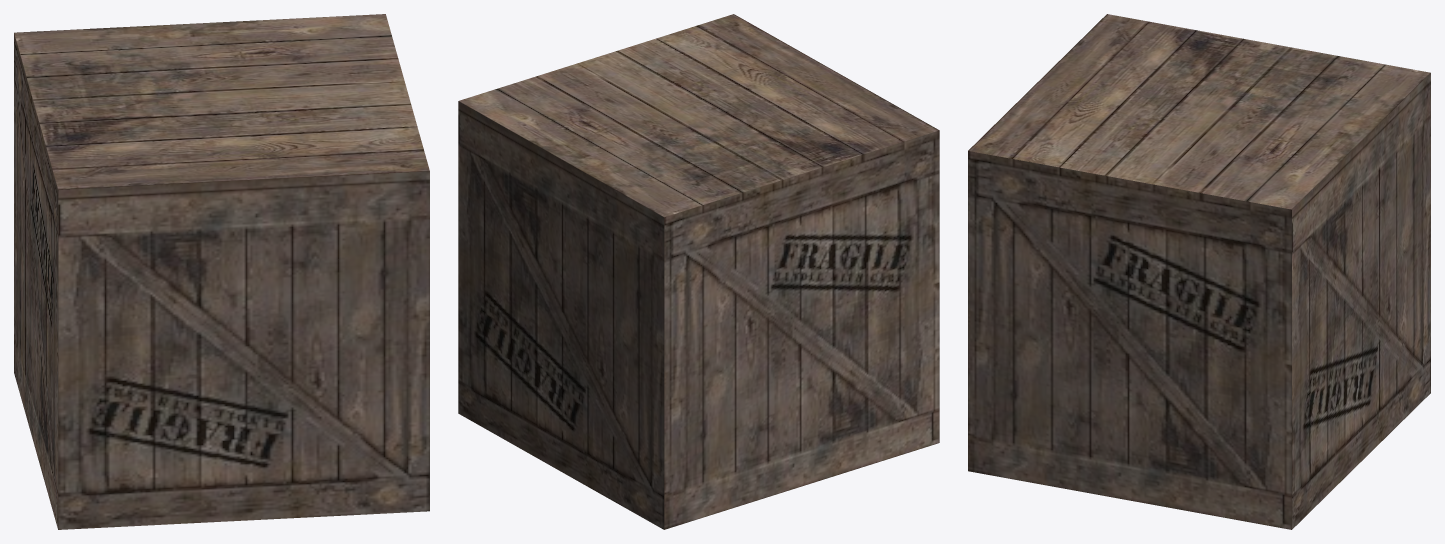
The model's file is Wooden_box_v1_LD1square (1).001.glb.
3 renders of one model, left to right at view 1: azimuth 30°, elevation 25°; view 2: azimuth 150°, elevation 25°; view 3: azimuth 270°, elevation 25°, orthographic. The views are drawn at different scales.
Visible parts, largest first — view 1: Wooden_box_v1_LD1square (1).001; view 2: Wooden_box_v1_LD1square (1).001; view 3: Wooden_box_v1_LD1square (1).001.
Part boxes in pixels (<box>): Wooden_box_v1_LD1square (1).001: <box>14,14,429,529</box>; Wooden_box_v1_LD1square (1).001: <box>458,14,939,529</box>; Wooden_box_v1_LD1square (1).001: <box>968,14,1430,529</box>.
Size of the model in its own units: 1.06 by 0.8124 by 1.06.
Materials: 1 (1 with a texture image).
